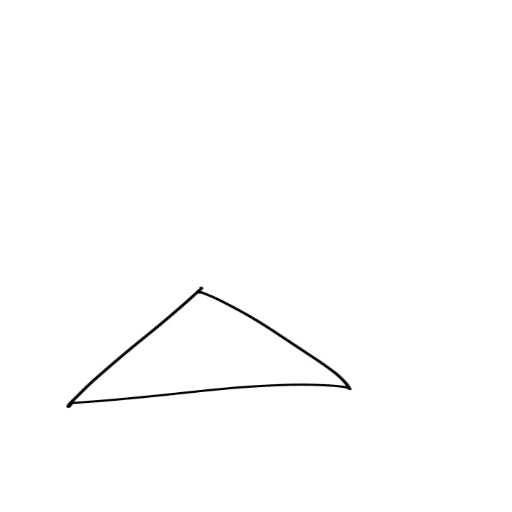triangle: (60, 286, 364, 418)
